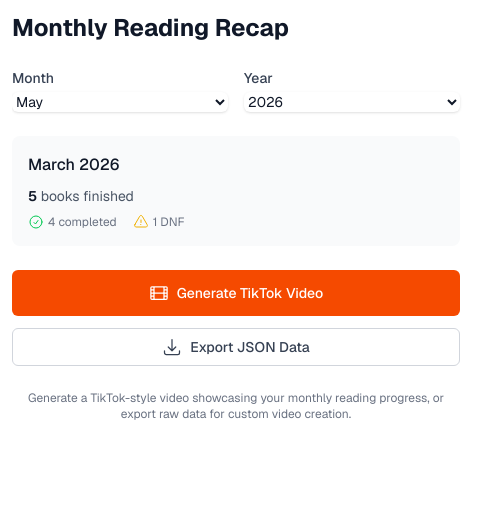
Test: RecapTab concurrent operation guard › disables both buttons while video is rendering
The width and height of the screenshot is (477, 523).
Check: the text "5 books finished" is shown, box [28,187,134,205]
Click the button "Generate TikTok Video".
click(236, 293)  # box [12,270,460,316]
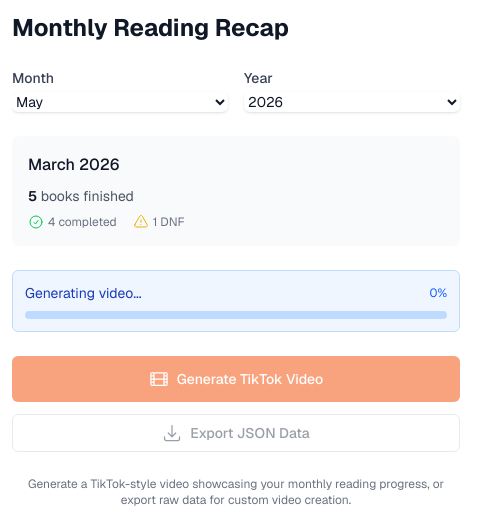
Check: the button "Generate TikTok Video" is disabled, box [12,356,460,402]
Check: the button "Export JSON Data" is disabled, box [12,414,460,452]
